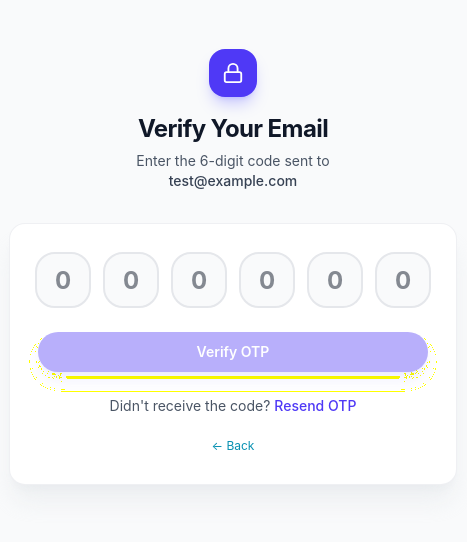
Test case: OTPVerificationPage › Resend OTP › should show error on resend failure
The width and height of the screenshot is (467, 542).
Click the button "Resend OTP": (315, 406) [274,396,356,416]
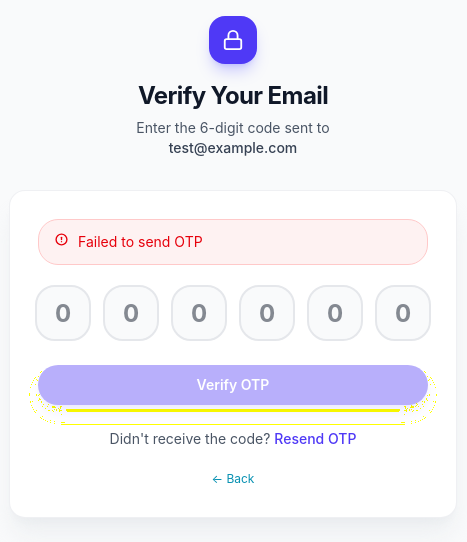
Result: the text "Failed to send OTP" is shown at [78,232,203,252]
